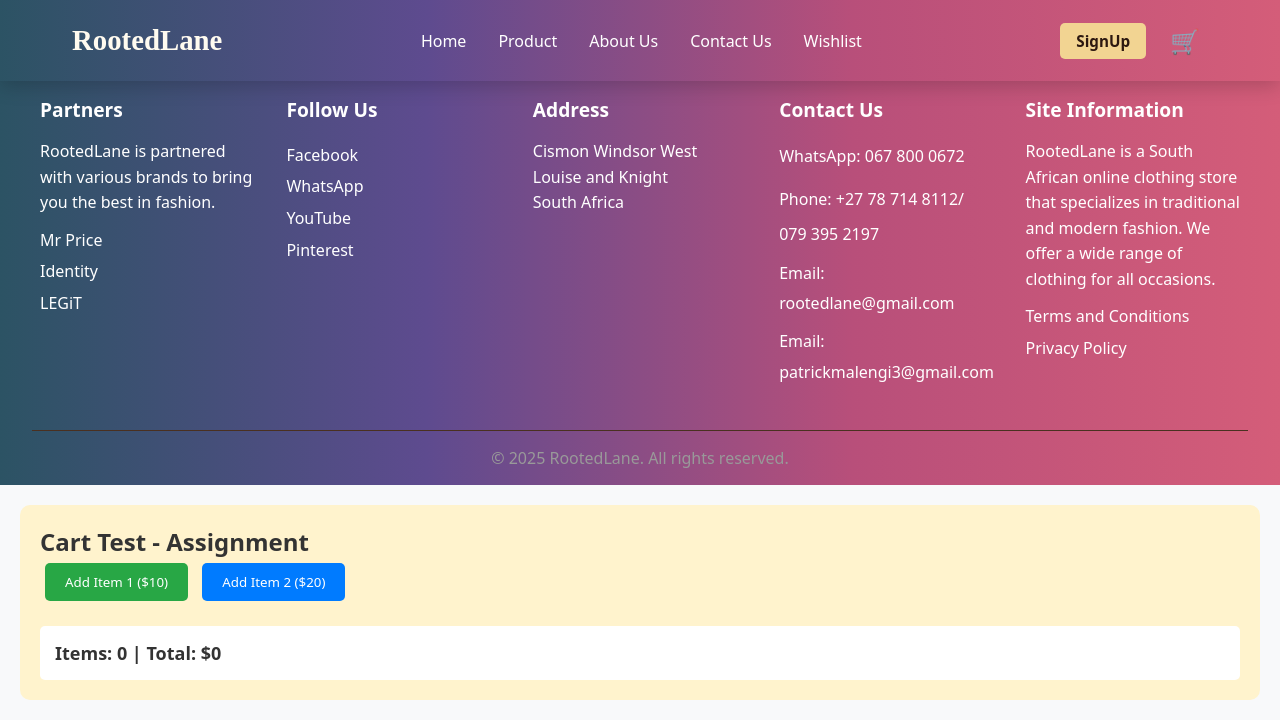
Final Assignment Tests - All Endpoints Working › TEST 4: Add to Cart Functionality
(page scrolled)
Check: the element with id "cart-test" is shown, box [20,505,1260,700]
Click the button with id "add-item-1": (117, 582) [45,563,188,601]
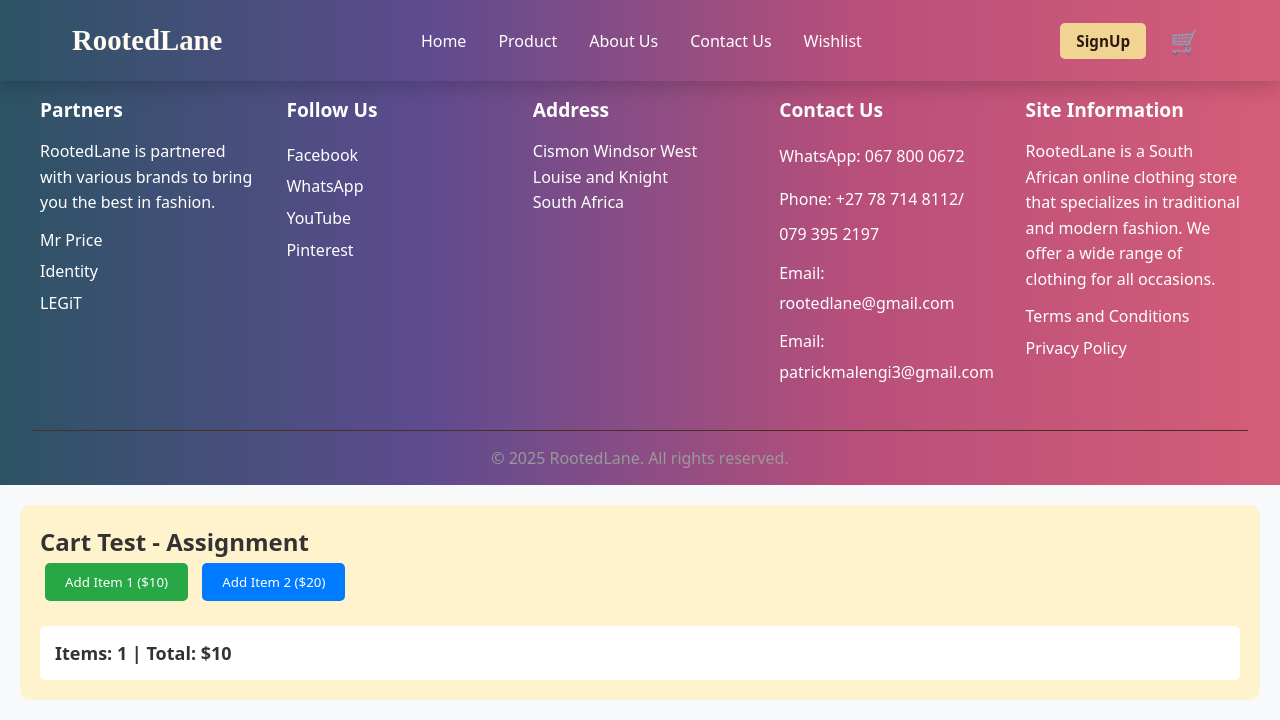
Check: the text with id "cart-display" shows "Items: 1", box [55,641,232,665]
Check: the text with id "cart-display" shows "Total: $10", box [55,641,232,665]
Click the button with id "add-item-2": (274, 582) [202,563,345,601]
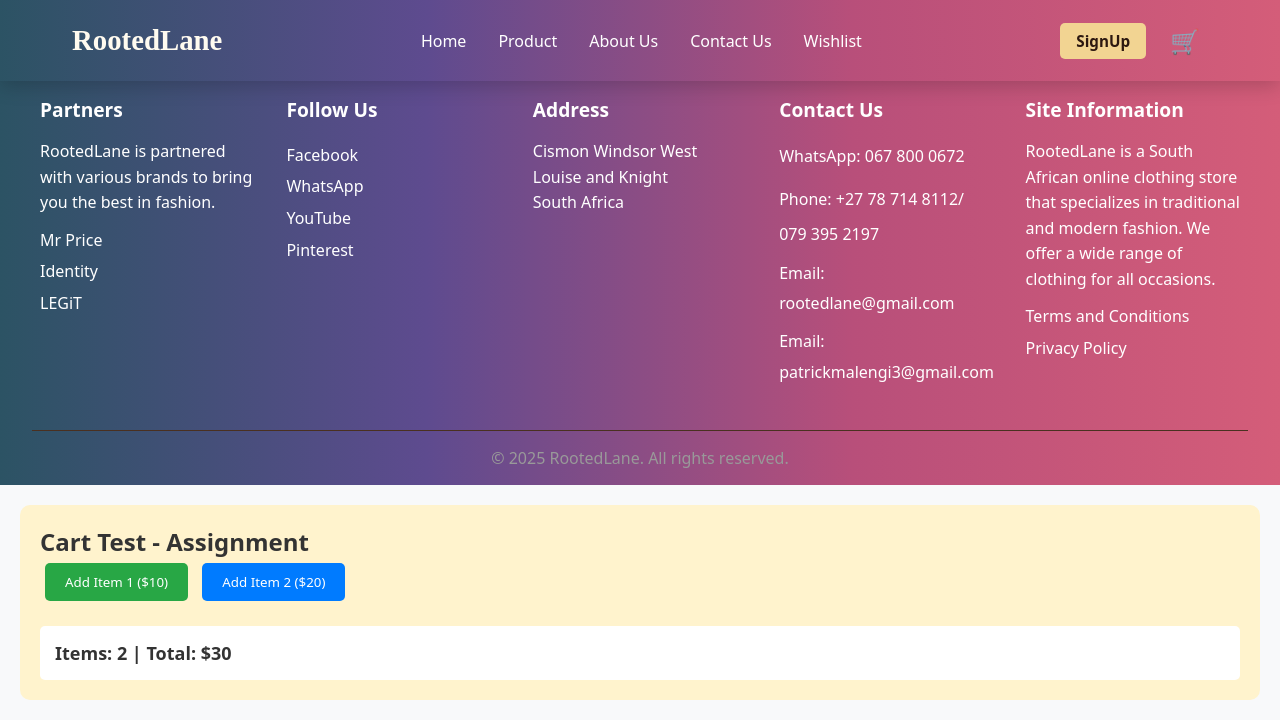
Check: the text with id "cart-display" shows "Items: 2", box [55,641,232,665]
Check: the text with id "cart-display" shows "Total: $30", box [55,641,232,665]
